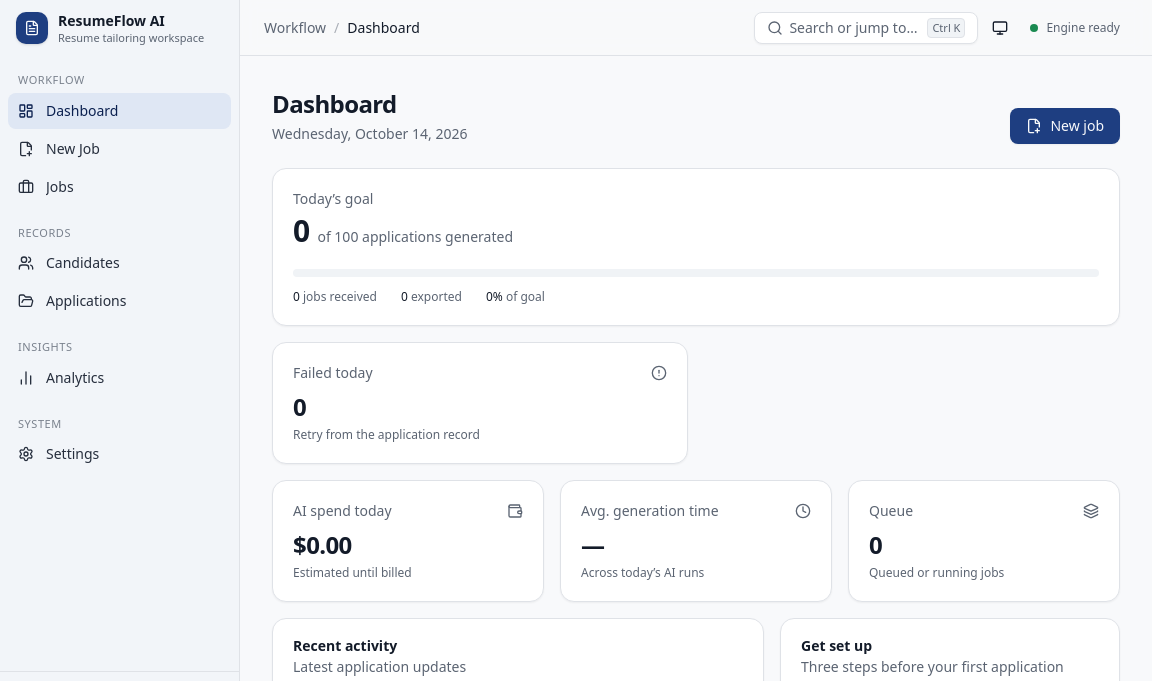
Test case: app shell › navigates to Jobs from the sidebar
The image size is (1152, 681).
Click the link "Jobs".
click(46, 186)  # box [18,176,74,196]
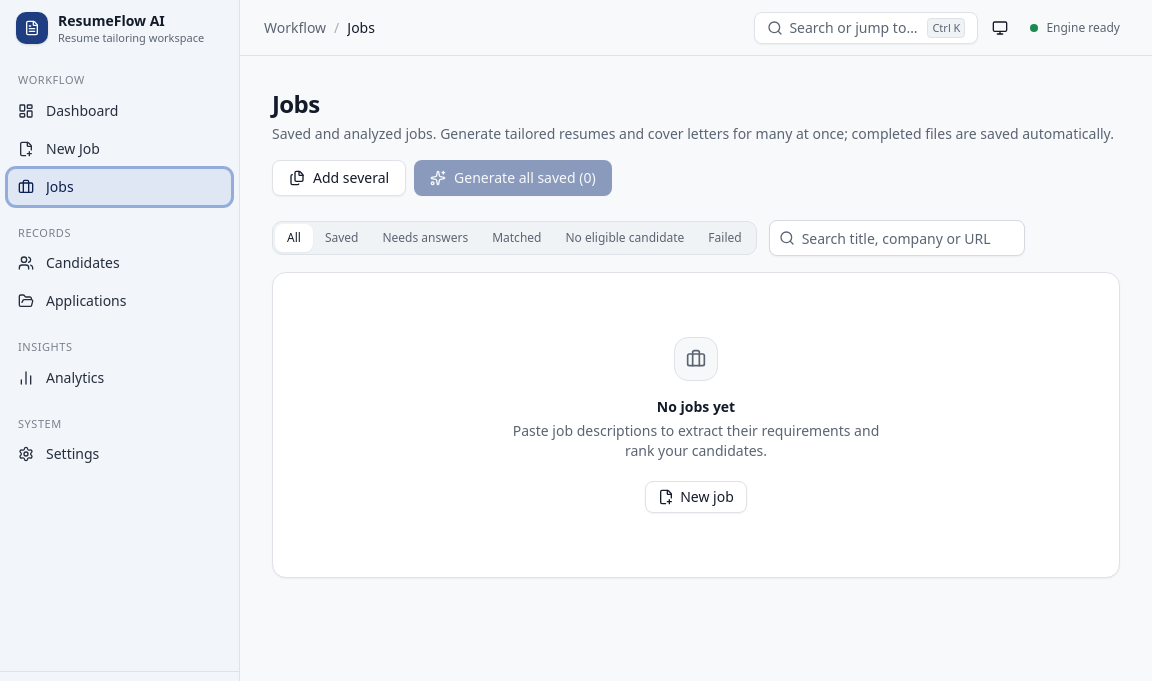
Check: the heading "Jobs" is shown, box [272,87,320,120]
